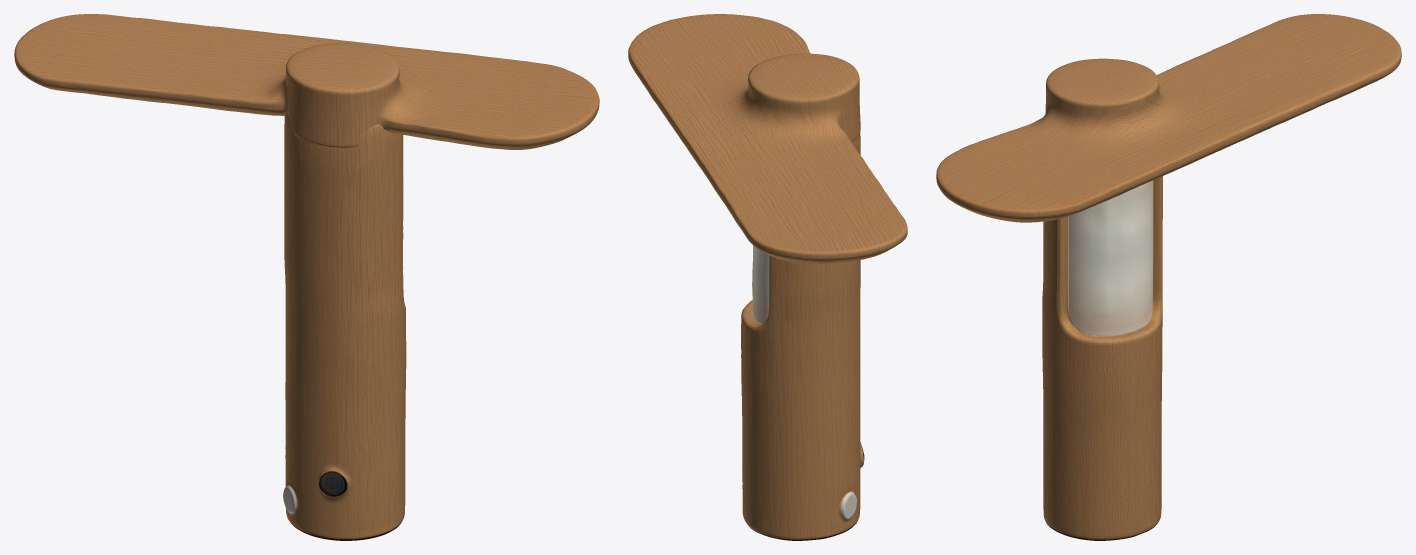
The model's file is lamp_04.glb.
3 views of the same model, side by side, from view 1: azimuth 30°, elevation 25°; view 2: azimuth 150°, elevation 25°; view 3: azimuth 270°, elevation 25° (orthographic). The views are drawn at different scales.
Parts seen in each view (by area): view 1: tripo_part_0, tripo_part_1; view 2: tripo_part_0, tripo_part_1, tripo_part_2; view 3: tripo_part_0, tripo_part_1, tripo_part_2.
Part boxes in pixels (x1,y1,x2,y2): tripo_part_0: (14,14,599,149); tripo_part_1: (283,113,406,540); tripo_part_0: (628,14,907,263); tripo_part_1: (741,133,864,540); tripo_part_2: (752,245,769,323); tripo_part_0: (936,14,1401,222); tripo_part_1: (1042,176,1162,540); tripo_part_2: (1068,180,1152,336).
Bounding box in the file's own units: 0.9381 × 0.9806 × 0.9424.
3 materials, 3 textured.
